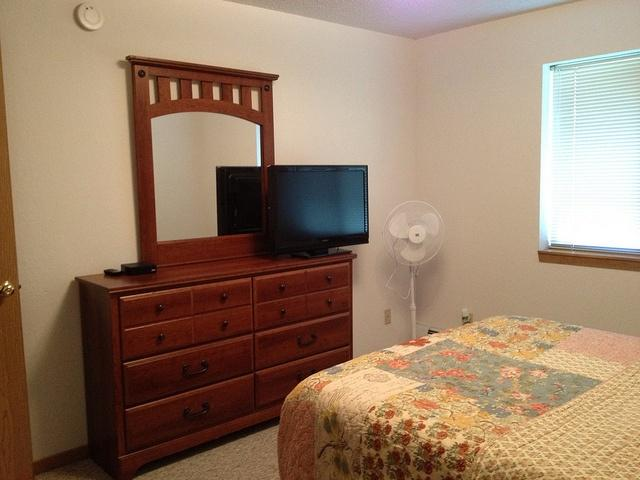AIO PC-Monitor-TV: (266, 163, 370, 259)
